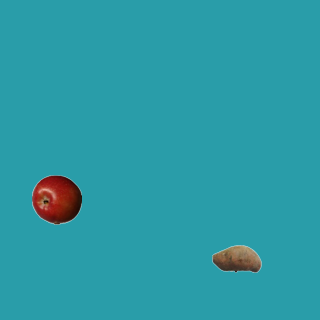Apple Braeburn: (31, 174, 81, 224)
Potato Sweet: (211, 233, 261, 283)
